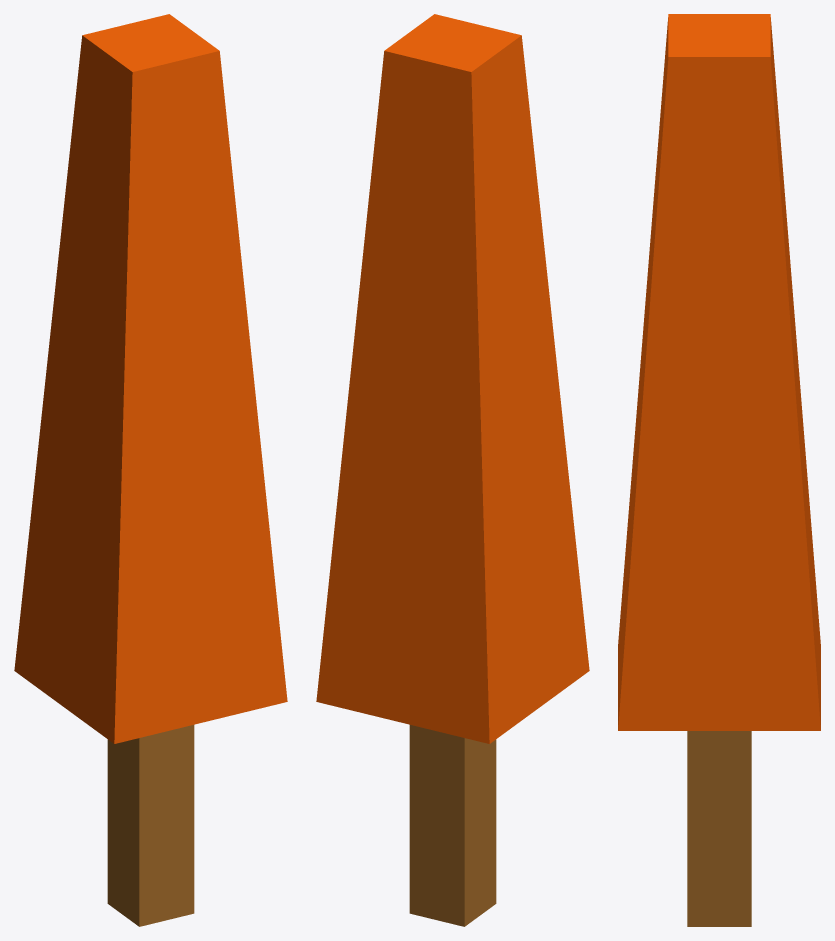
Rendered from tree_05.fbx.
3 views of the same model, side by side, from view 1: azimuth 30°, elevation 25°; view 2: azimuth 150°, elevation 25°; view 3: azimuth 270°, elevation 25° (orthographic).
Visible parts, largest first — view 1: tree_05; view 2: tree_05; view 3: tree_05.
Part boxes in pixels (<box>): tree_05: <box>14,14,287,926</box>; tree_05: <box>316,14,589,926</box>; tree_05: <box>618,14,820,926</box>.
Size of the model in its own units: 0.8155 by 3.89 by 0.8155.
